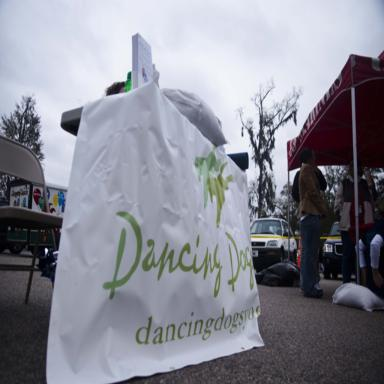plasticbag: (254, 257, 300, 286)
